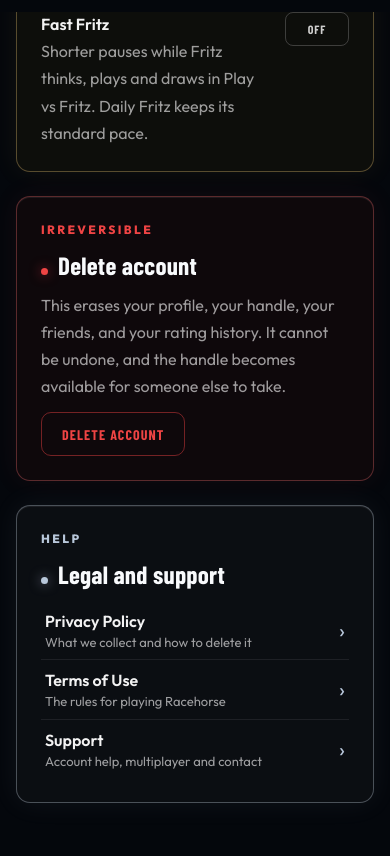
Test case: SettingsScreen — delete account › can be backed out of
(page scrolled)
Click the button "Delete account" at x=113, y=434, box x1=41 y1=412 x2=186 y2=456
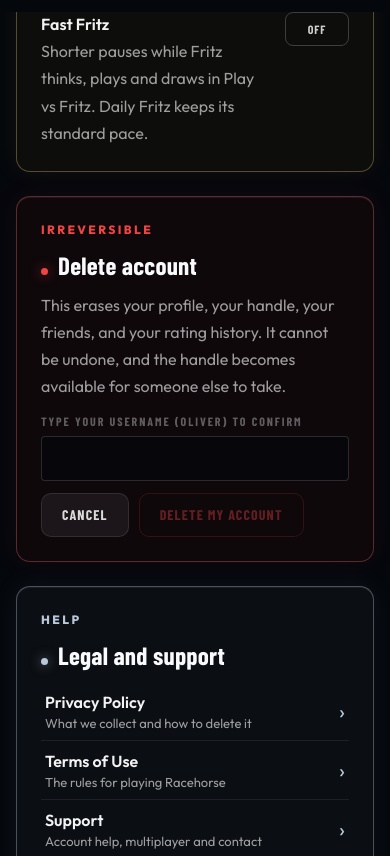
Click the button "Cancel" at x=85, y=515, box x1=41 y1=493 x2=129 y2=537
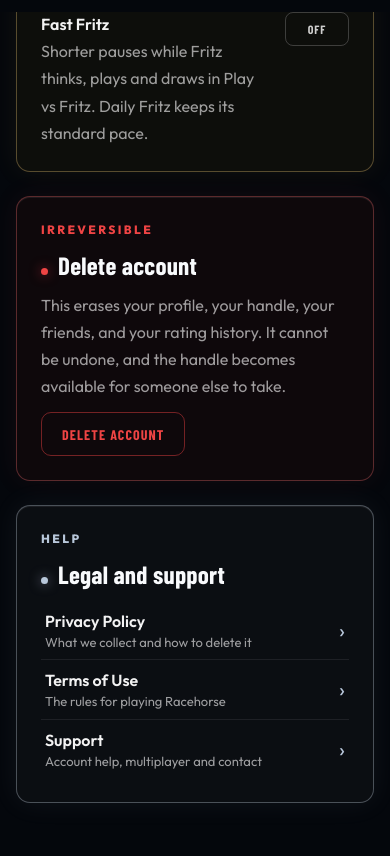
Expected: the text labelled "Type your username" is gone
